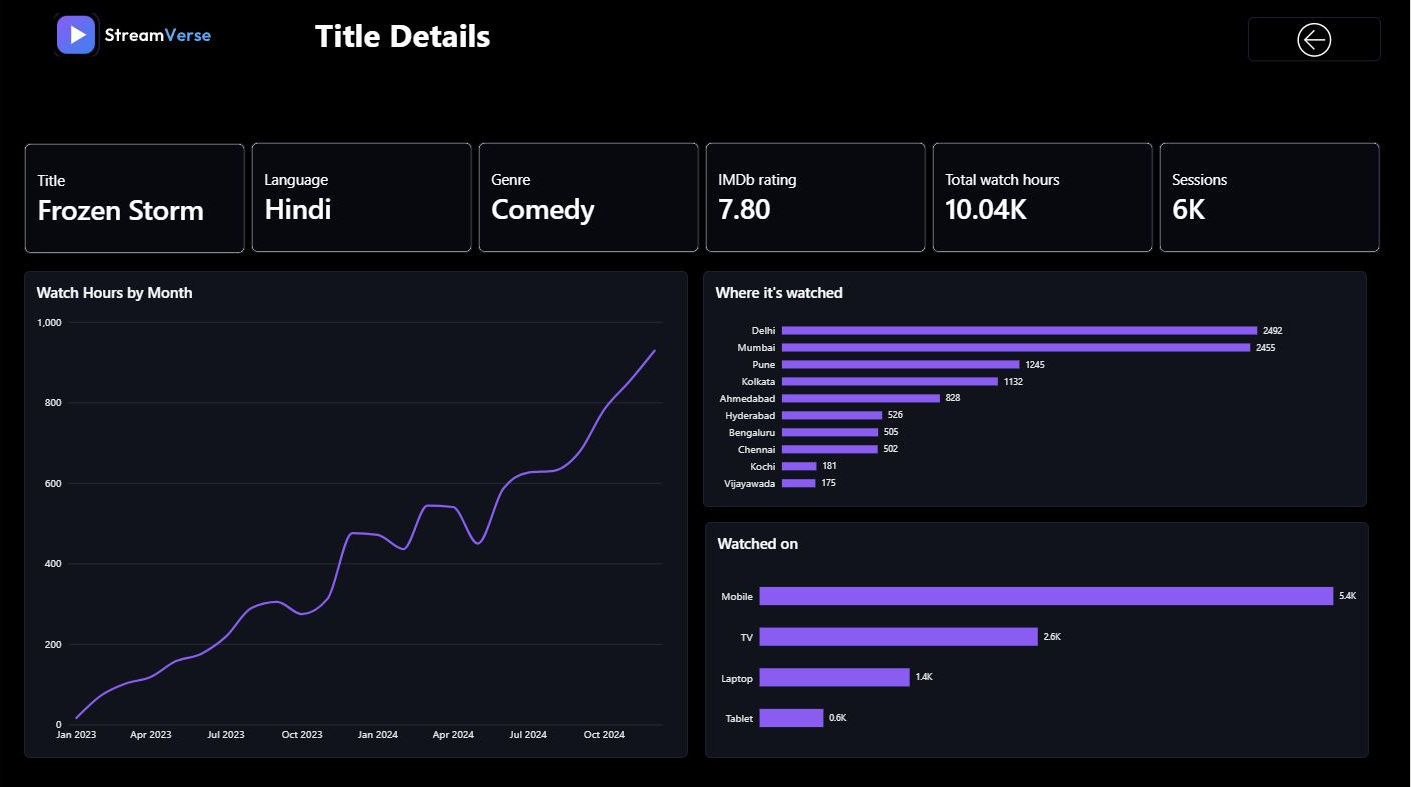

What the dashboard file says about the page in this screenshot:
{"tool":"powerbi","page":{"name":"Title Details","canvas":[1920,1080],"ordinal":6},"visuals":[{"type":"image","box":[40,30,300,59],"z":0},{"type":"textbox","box":[435.7,30,446.7,60],"z":1000},{"type":"actionButton","box":[1700,35,180,60],"z":2000},{"type":"cardVisual","fields":{"Data":["Watch.Selected Title"]},"box":[40,205.5,300,150],"z":3000},{"type":"cardVisual","fields":{"Data":["Watch.selected language"]},"box":[348,205,300,150],"z":4000},{"type":"cardVisual","fields":{"Data":["Watch.selected genre"]},"box":[656,205,300,150],"z":5000},{"type":"cardVisual","fields":{"Data":["Watch.selected imdbrating"]},"box":[964,205,300,150],"z":6000},{"type":"cardVisual","fields":{"Data":["Sum(Content.total_hours)"]},"box":[1272,205,300,150],"z":7000},{"type":"cardVisual","fields":{"Data":["Watch.Total Sessions"]},"box":[1580,205,300,150],"z":8000},{"type":"lineChart","title":"Watch Hours by Month","fields":{"Category":["Date.month start"],"Y":["Date.Total Watch Hours"]},"box":[40.4,380.1,900,660],"z":9000},{"type":"clusteredBarChart","title":"Where it''s watched","fields":{"Category":["Users.city"],"Y":["Date.Total Watch Hours"]},"box":[960.7,380.1,900,320],"z":10000},{"type":"clusteredBarChart","title":"Watched on","fields":{"Category":["Device.device_type"],"Y":["Date.Total Watch Hours"]},"box":[963.7,719.8,900,320],"z":11000}]}

Visuals, with their boxes in screenshot pixels (x1, y1, x2, y2), scaled from the page's 1920x1080 canvas onto the 1411x787 screenshot:
image: [left=29, top=22, right=250, bottom=65]
textbox: [left=320, top=22, right=648, bottom=66]
actionButton: [left=1249, top=26, right=1382, bottom=69]
cardVisual - Watch.Selected Title: [left=29, top=150, right=250, bottom=259]
cardVisual - Watch.selected language: [left=256, top=149, right=476, bottom=259]
cardVisual - Watch.selected genre: [left=482, top=149, right=703, bottom=259]
cardVisual - Watch.selected imdbrating: [left=708, top=149, right=929, bottom=259]
cardVisual - Sum(Content.total_hours): [left=935, top=149, right=1155, bottom=259]
cardVisual - Watch.Total Sessions: [left=1161, top=149, right=1382, bottom=259]
"Watch Hours by Month" lineChart: [left=30, top=277, right=691, bottom=758]
"Where it''s watched" clusteredBarChart: [left=706, top=277, right=1367, bottom=510]
"Watched on" clusteredBarChart: [left=708, top=525, right=1370, bottom=758]
